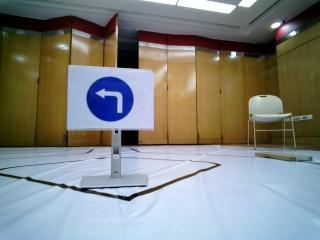left: (68, 68, 155, 129)
